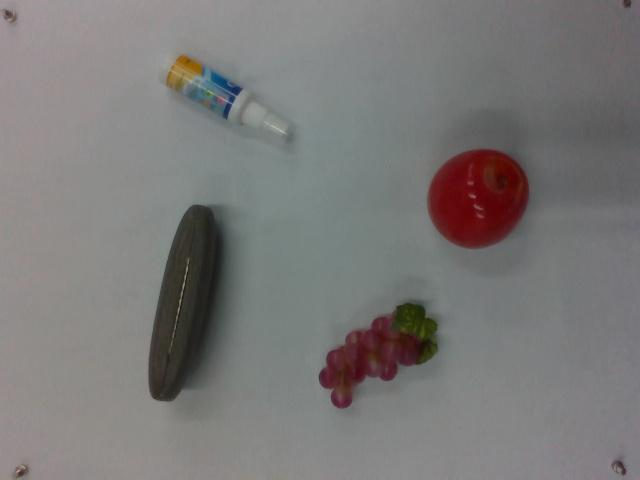apple: (427, 145, 531, 253)
detergent: (157, 46, 293, 145)
glassescase: (144, 203, 223, 403)
grape: (314, 301, 437, 411)
